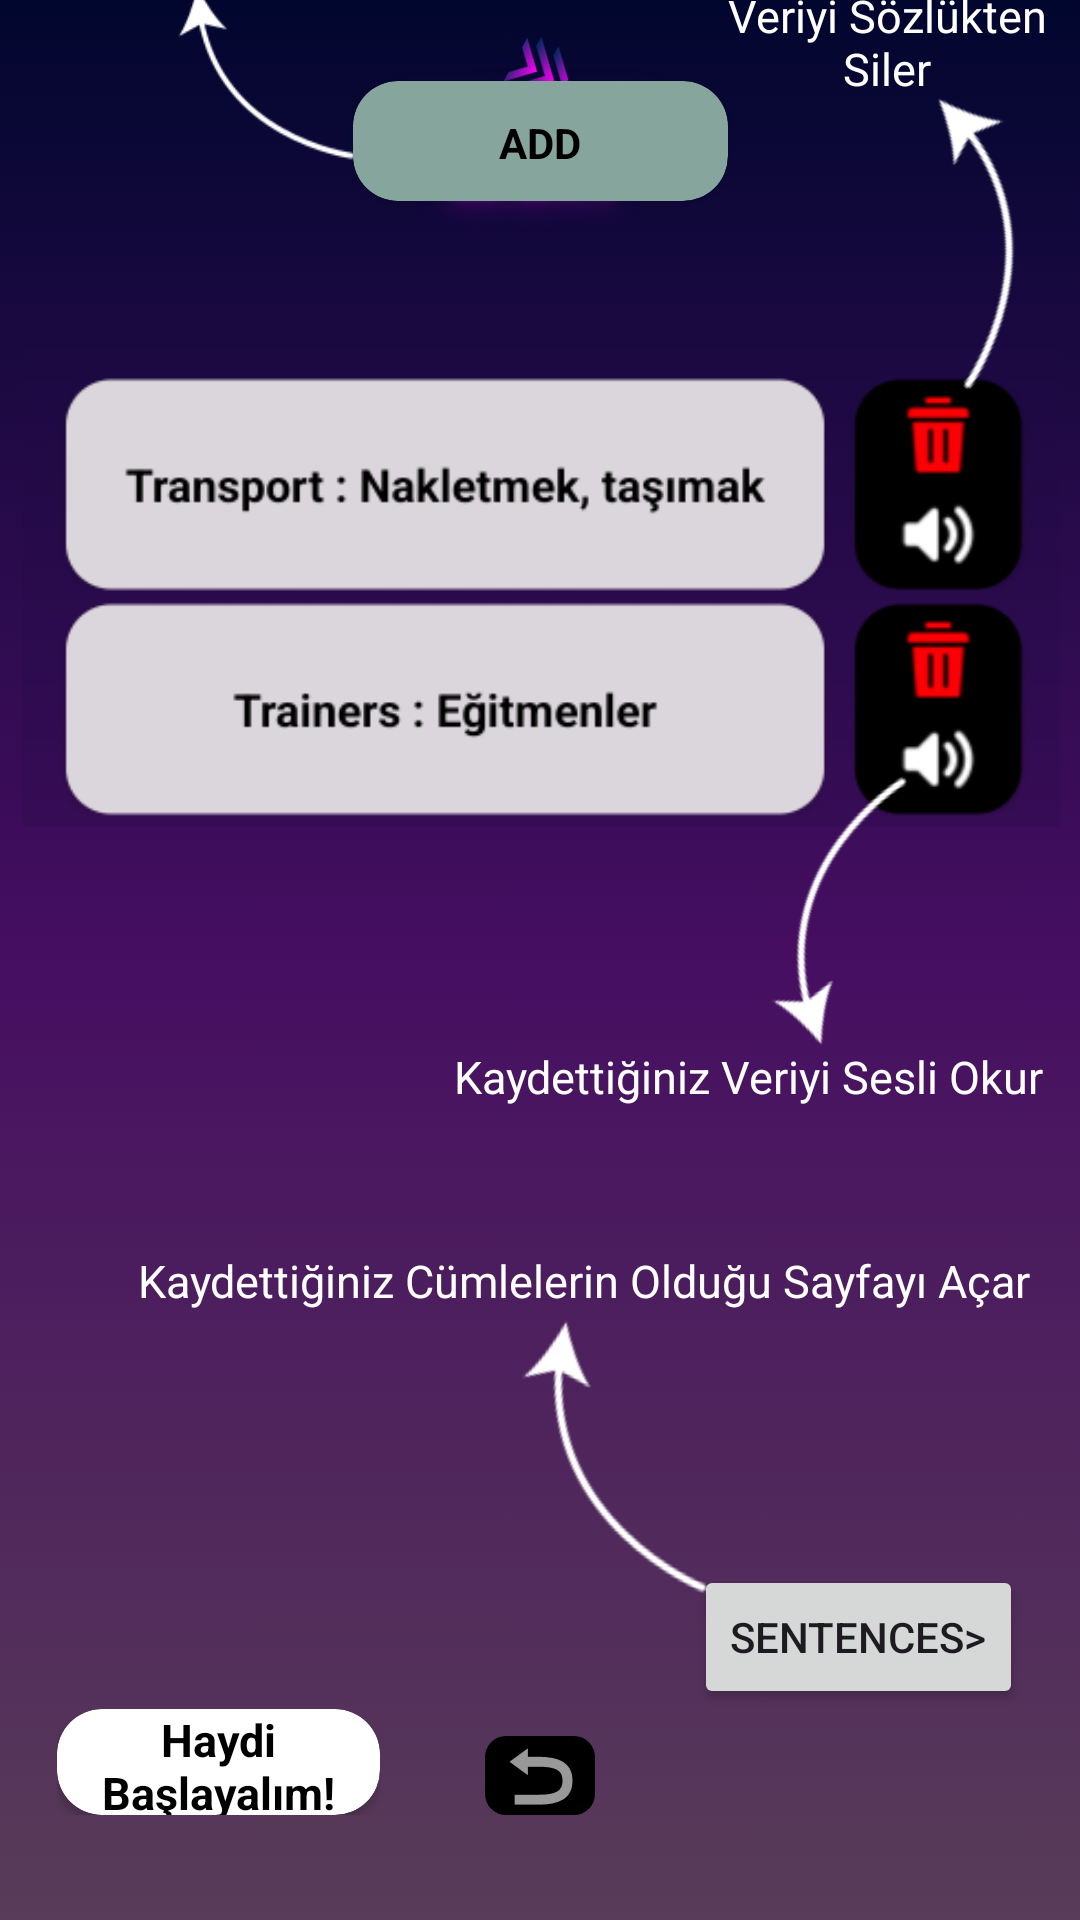

Icon click points for this 1080×1920 phone screenshot, format [x,y]:
revert: [540,1775]
